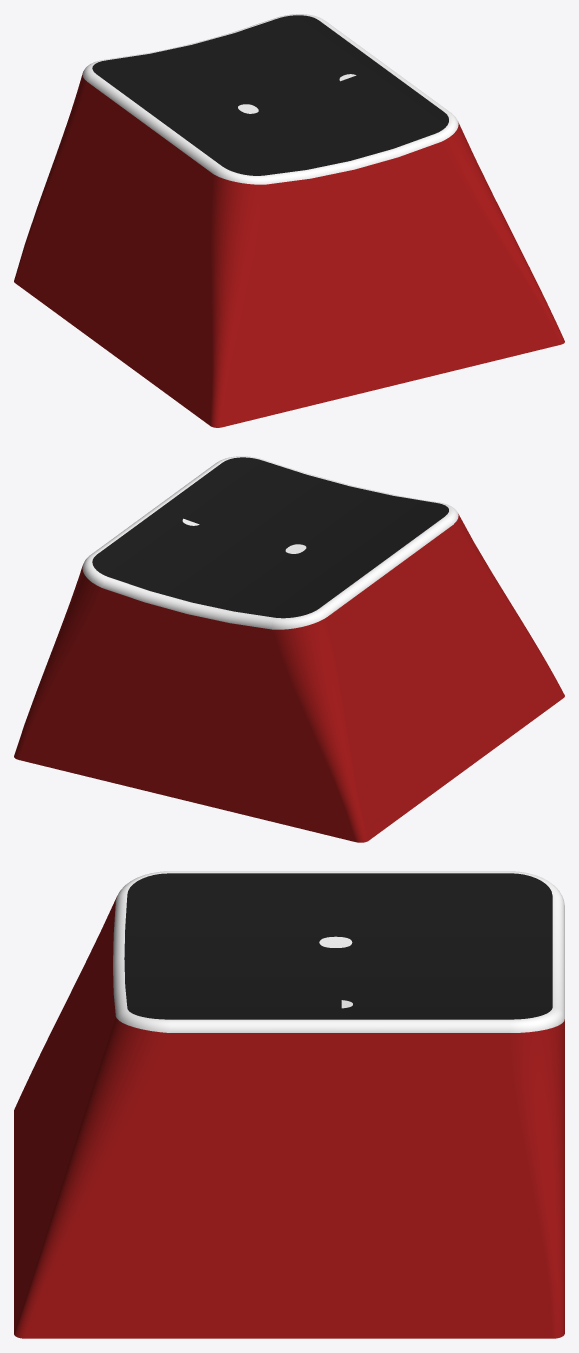
Rendered from Home.fbx.
3 views of the same model, one above another, from view 1: azimuth 30°, elevation 25°; view 2: azimuth 150°, elevation 25°; view 3: azimuth 270°, elevation 25° (orthographic). The views are drawn at different scales.
Parts seen in each view (by area): view 1: Body1; view 2: Body1; view 3: Body1.
Boxes of the visible parts, bbox=[...] form: Body1: bbox=[14, 14, 564, 427]; Body1: bbox=[14, 456, 564, 842]; Body1: bbox=[14, 871, 564, 1338].
Bounding box in the file's own units: 18 × 9.95 × 18.
